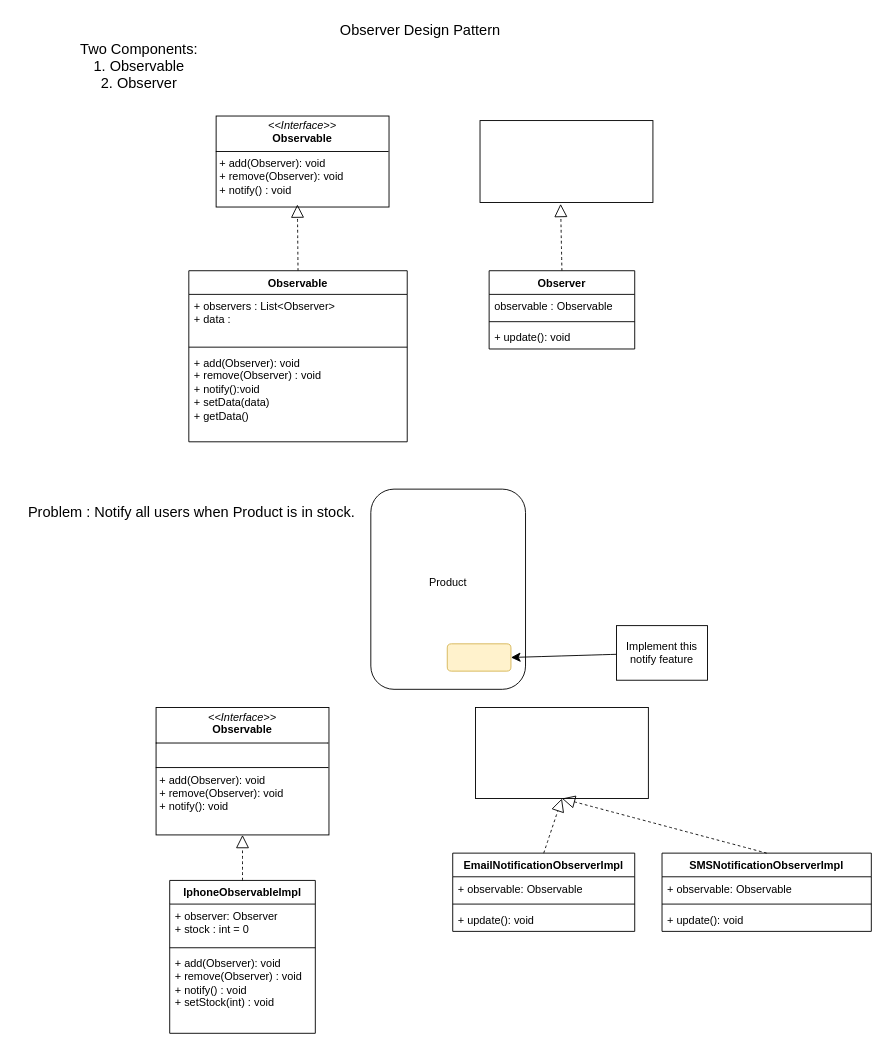
Some shapes in this 887 by 1051 pixel diagram are drawn without their labels. The centre of each missing label's shape, as x and y in pixels:
"<<Interface>> Observer + update(): Type" goes at [566,161].
"<<Interface>> Observer + update(): void" goes at [561,753].
"Notify me" goes at [478,657].
